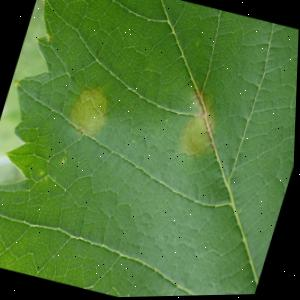Folha: (0, 0, 300, 300)
Fungo: (63, 79, 118, 141), (174, 110, 220, 163), (77, 84, 94, 104), (12, 78, 19, 86), (61, 156, 67, 165)
